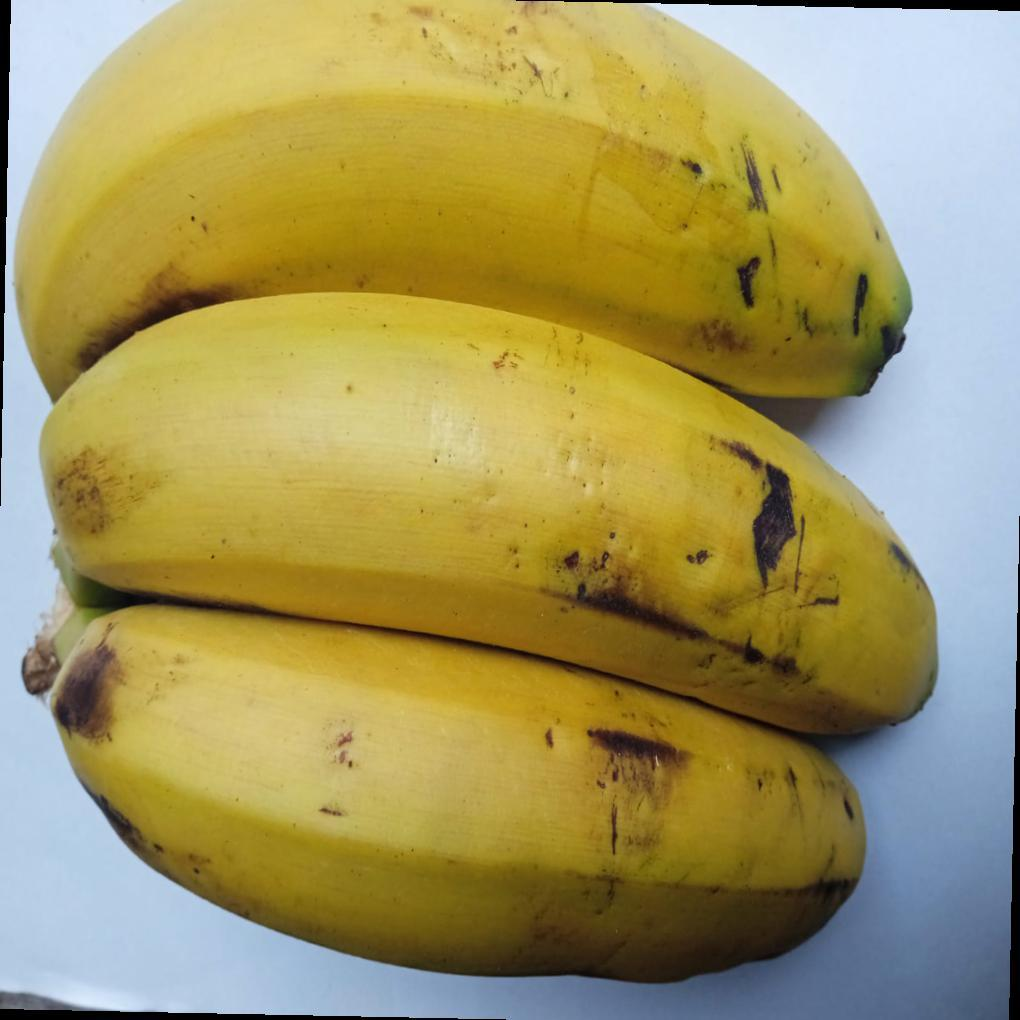Banana Ripe: (23, 266, 977, 724), (16, 566, 926, 981), (13, 0, 922, 397)
